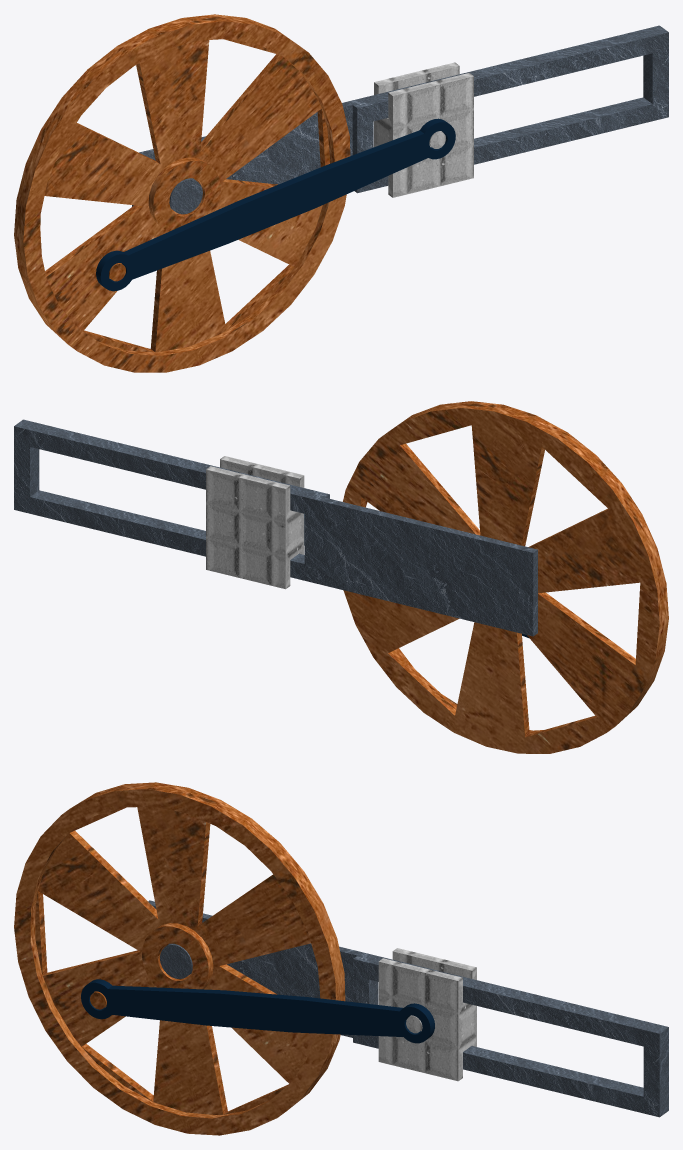
Rendered from SimpleCrank.24.dae.
3 renders of one model, top to bottom at view 1: azimuth 30°, elevation 25°; view 2: azimuth 150°, elevation 25°; view 3: azimuth 330°, elevation 25°, orthographic.
Visible parts, largest first — view 1: Actor2, Actor3, Actor0, Actor1; view 2: Actor2, Actor3, Actor1; view 3: Actor2, Actor3, Actor0, Actor1.
Boxes of the visible parts, <box> form: Actor2: <box>14,14,350,372</box>; Actor3: <box>132,25,668,214</box>; Actor0: <box>96,118,455,291</box>; Actor1: <box>374,62,473,197</box>; Actor2: <box>343,401,668,753</box>; Actor3: <box>14,419,537,636</box>; Actor1: <box>206,456,304,589</box>; Actor2: <box>14,782,345,1135</box>; Actor3: <box>148,900,668,1117</box>; Actor0: <box>81,979,434,1043</box>; Actor1: <box>378,948,476,1081</box>.
Bounding box in the file's own units: 4.01 × 2.02 × 0.256.
